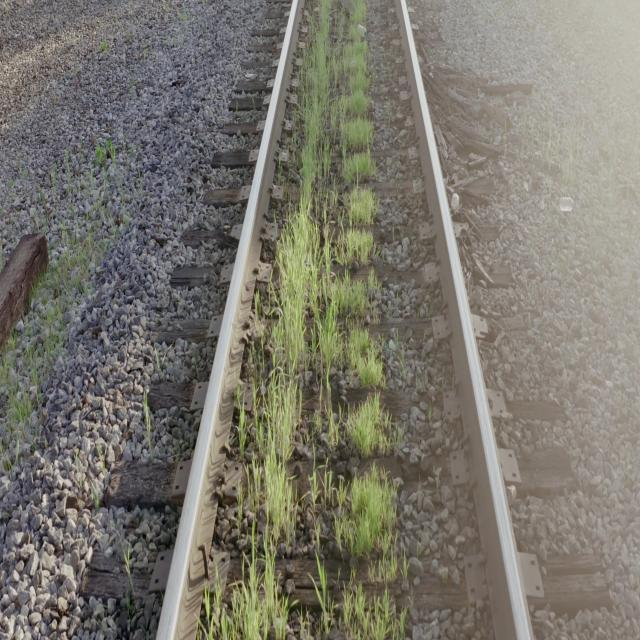Plant: (200, 0, 399, 640), (308, 462, 396, 580), (206, 536, 290, 640), (340, 584, 404, 638), (318, 551, 335, 638)
